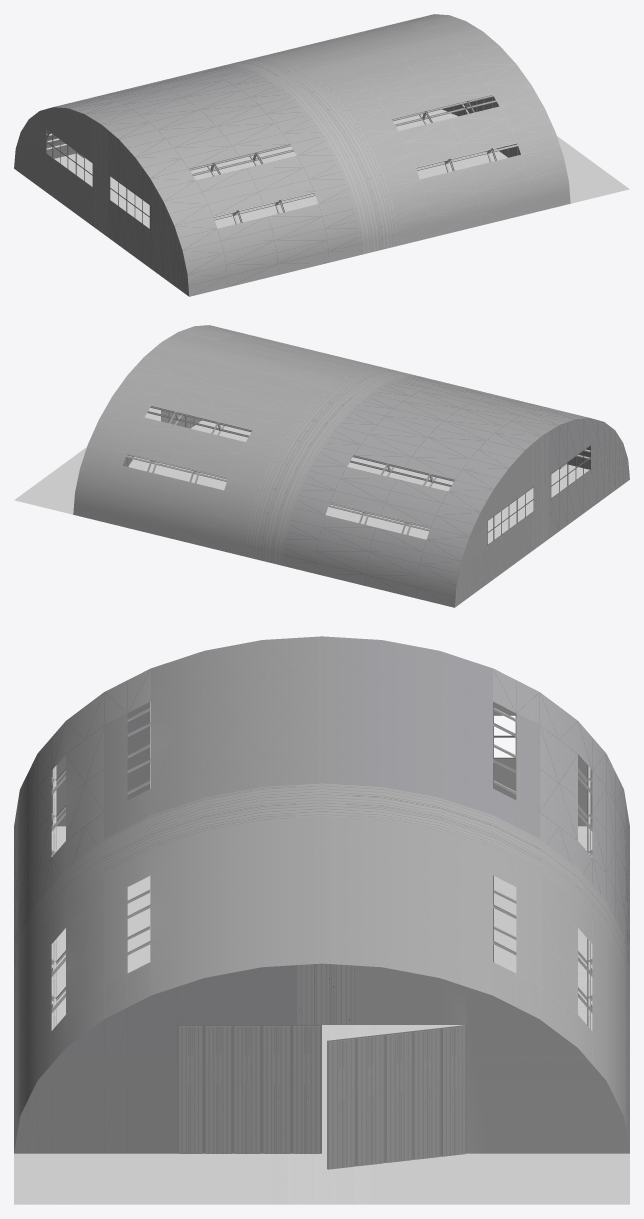
Rendered from garage.fbx.
3 renders of one model, top to bottom at view 1: azimuth 30°, elevation 25°; view 2: azimuth 150°, elevation 25°; view 3: azimuth 270°, elevation 25°, orthographic. The views are drawn at different scales.
Parts seen in each view (by area): view 1: garage:garage; view 2: garage:garage; view 3: garage:garage.
Boxes of the visible parts, x1,y1,x2,y2 form: garage:garage: (14, 14, 629, 296); garage:garage: (14, 325, 629, 607); garage:garage: (14, 636, 629, 1204).
Bounding box in the file's own units: 94.28 × 22.09 × 64.87.
3 materials, 3 textured.
